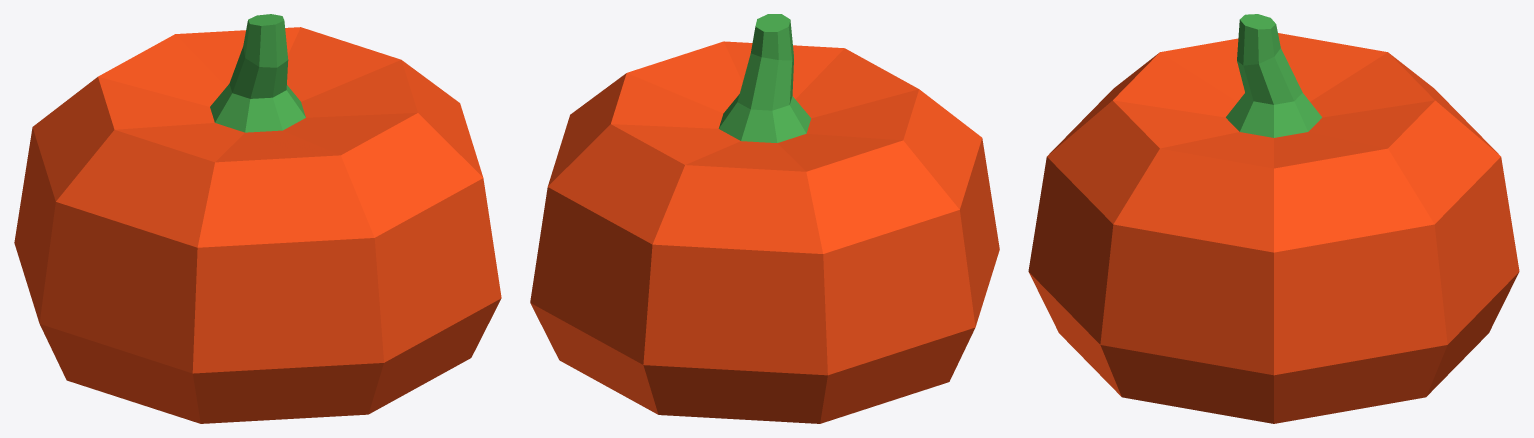
Rendered from pumpkin.glb.
3 renders of one model, left to right at view 1: azimuth 30°, elevation 25°; view 2: azimuth 150°, elevation 25°; view 3: azimuth 270°, elevation 25°, orthographic. The views are drawn at different scales.
Visible parts, largest first — view 1: Pumpkin_Circle.023; view 2: Pumpkin_Circle.023; view 3: Pumpkin_Circle.023.
Boxes of the visible parts, box(x1,y1,x2,y2) form: Pumpkin_Circle.023: box(14, 14, 501, 423); Pumpkin_Circle.023: box(530, 14, 999, 423); Pumpkin_Circle.023: box(1028, 14, 1519, 423).
Bounding box in the file's own units: 13.46 × 10.08 × 13.46.
